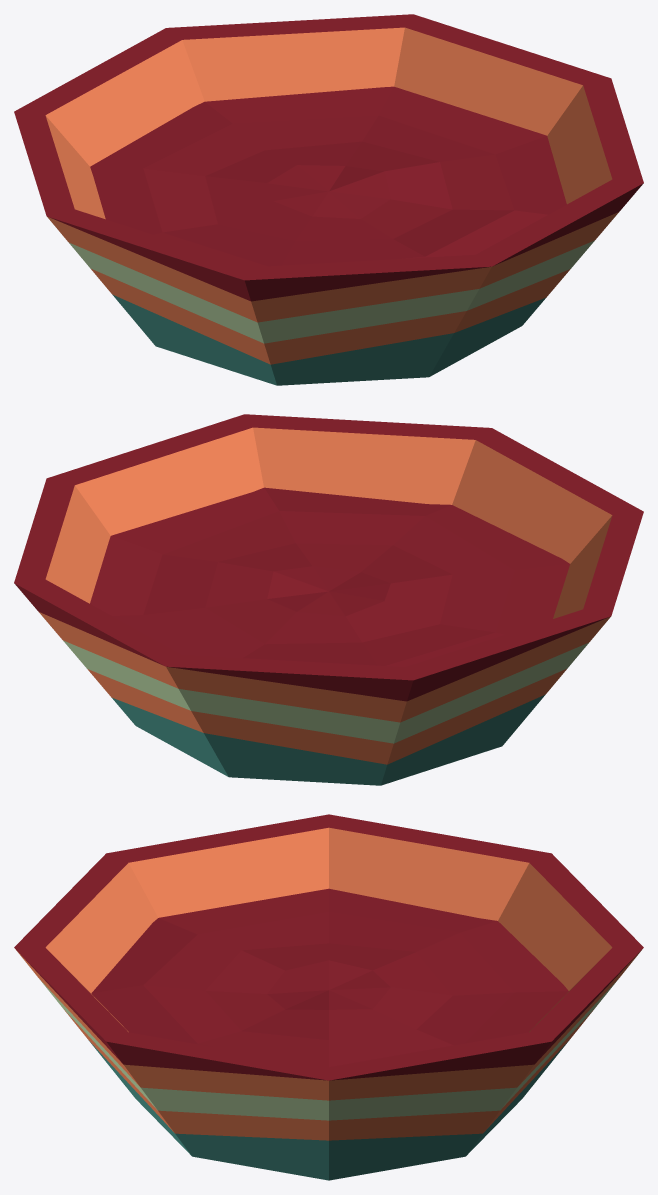
File: HuntsmanVase1.fbx
3 renders of one model, top to bottom at view 1: azimuth 30°, elevation 25°; view 2: azimuth 150°, elevation 25°; view 3: azimuth 270°, elevation 25°, orthographic. The views are drawn at different scales.
Parts seen in each view (by area): view 1: Vase1Huntsman; view 2: Vase1Huntsman; view 3: Vase1Huntsman.
Boxes of the visible parts, x1,y1,x2,y2 form: Vase1Huntsman: [14, 14, 643, 385]; Vase1Huntsman: [14, 414, 643, 785]; Vase1Huntsman: [14, 814, 643, 1180].
Bounding box in the file's own units: 200 × 53.03 × 200.
